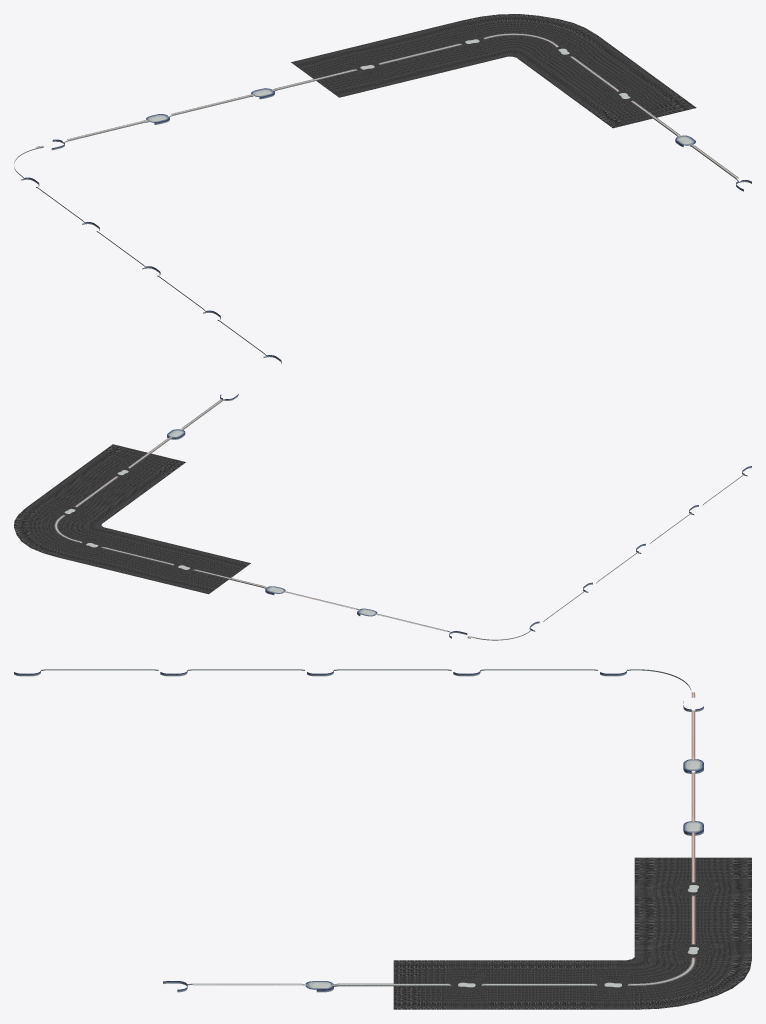
File: Egg_hawk_stage_5.obj
The picture shows the model from 3 angles, top to bottom: view 1: azimuth 30°, elevation 25°; view 2: azimuth 150°, elevation 25°; view 3: azimuth 270°, elevation 25°; orthographic projection. The views are drawn at different scales.
Visible parts, largest first — view 1: Object_2, obj2, obj3; view 2: Object_2, obj2, obj3; view 3: Object_2, obj2, obj3.
Boxes of the visible parts, left/top/right/bottom form: Object_2: left=291, top=14, right=696, bottom=128; obj2: left=14, top=33, right=751, bottom=363; obj3: left=272, top=33, right=630, bottom=98; Object_2: left=14, top=444, right=250, bottom=594; obj2: left=54, top=394, right=751, bottom=640; obj3: left=55, top=470, right=267, bottom=588; Object_2: left=393, top=857, right=751, bottom=1009; obj2: left=14, top=669, right=703, bottom=992; obj3: left=458, top=832, right=698, bottom=987.
Size of the model in its own units: 27585 by 130 by 25190.
